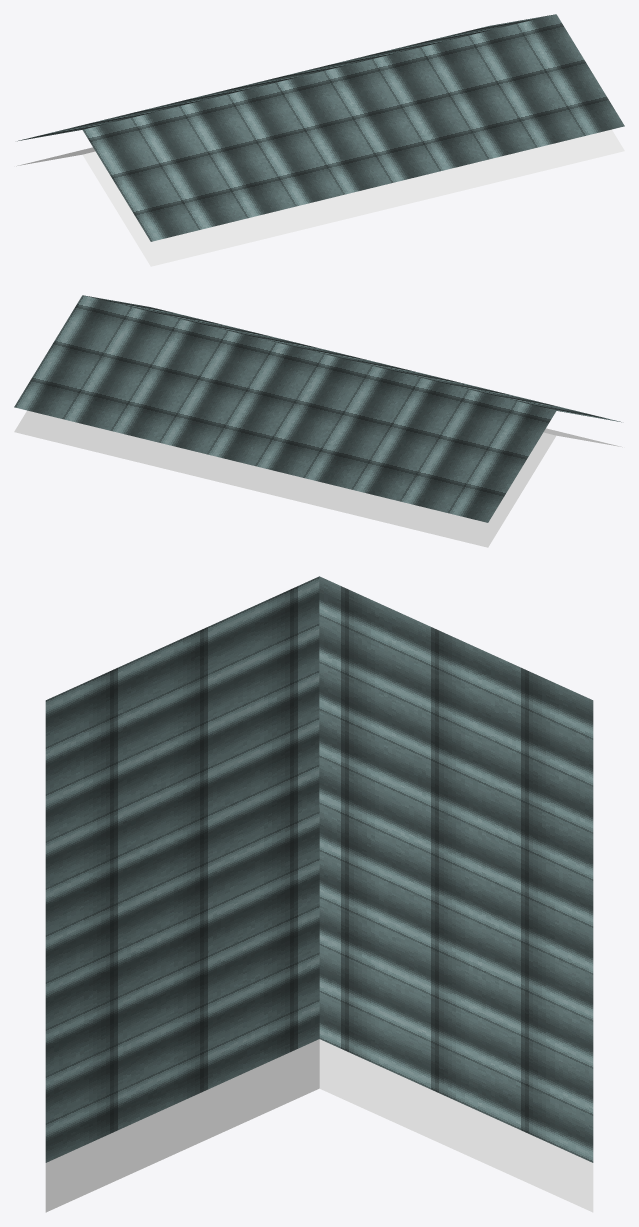
File: roof_top_mid_4x2.glb
3 renders of one model, top to bottom at view 1: azimuth 30°, elevation 25°; view 2: azimuth 150°, elevation 25°; view 3: azimuth 270°, elevation 25°, orthographic. The views are drawn at different scales.
Parts seen in each view (by area): view 1: roof_top_mid_4x2; view 2: roof_top_mid_4x2; view 3: roof_top_mid_4x2.
Boxes of the visible parts, x1,y1,x2,y2 form: roof_top_mid_4x2: (16, 14, 624, 266); roof_top_mid_4x2: (14, 295, 622, 547); roof_top_mid_4x2: (45, 576, 593, 1212).
Size of the model in its own units: 4 by 0.7 by 2.
2 materials, 1 textured.
